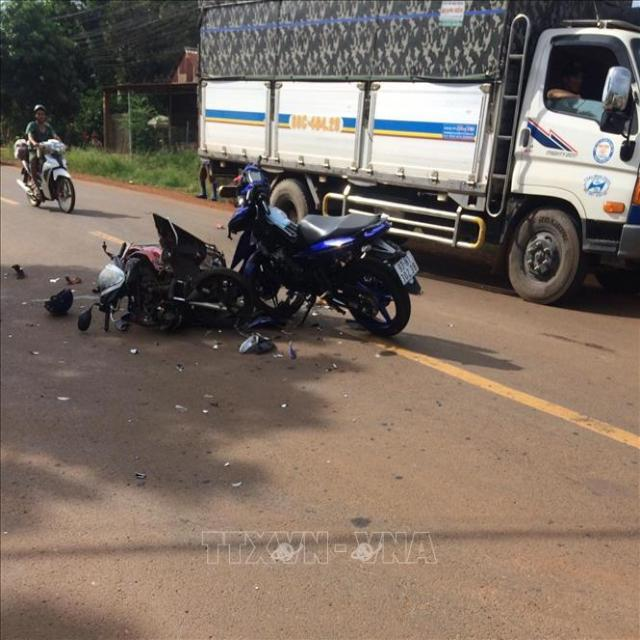multiple_accident: (6, 154, 429, 349)
